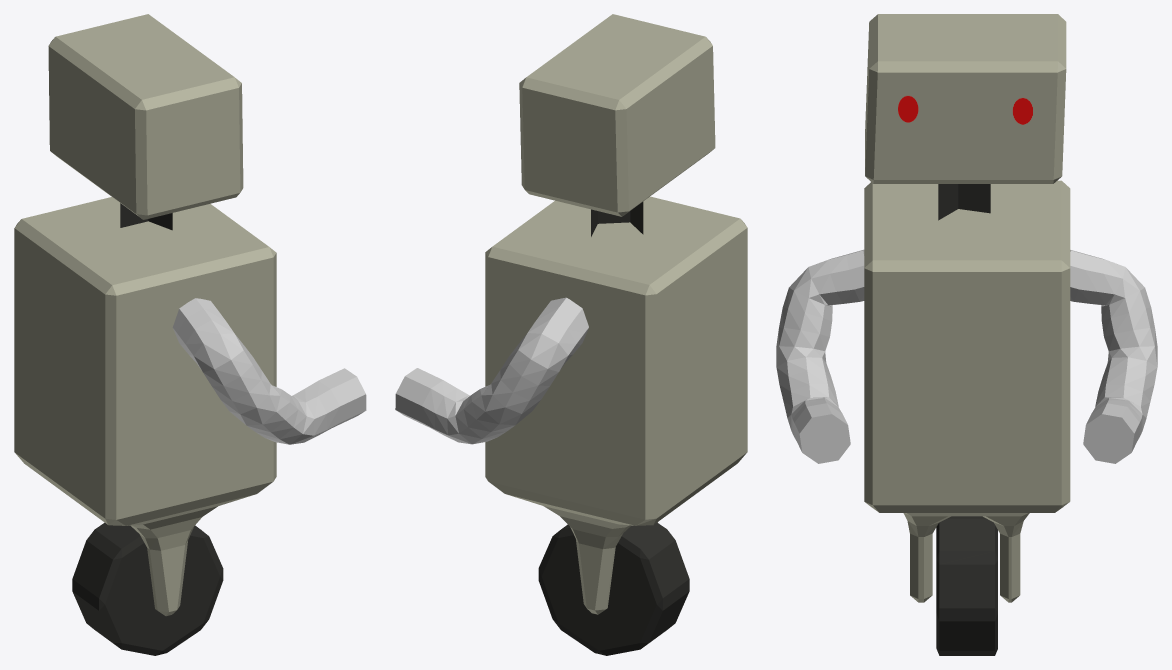
The model's file is enemy.obj.
3 renders of one model, left to right at view 1: azimuth 30°, elevation 25°; view 2: azimuth 150°, elevation 25°; view 3: azimuth 270°, elevation 25°, orthographic. The views are drawn at different scales.
Visible parts, largest first — view 1: Cylinder.002_Cylinder.003, Cylinder_Cylinder.002; view 2: Cylinder.002_Cylinder.003, Cylinder.001_Cylinder.002; view 3: Cylinder.002_Cylinder.003, Cylinder_Cylinder.002, Cylinder.001_Cylinder.002.
Part boxes in pixels (box(x1,y1,x2,y2)): Cylinder.002_Cylinder.003: box(14, 14, 276, 655); Cylinder_Cylinder.002: box(172, 298, 366, 444); Cylinder.002_Cylinder.003: box(485, 14, 747, 655); Cylinder.001_Cylinder.002: box(395, 297, 588, 444); Cylinder.002_Cylinder.003: box(864, 14, 1070, 655); Cylinder_Cylinder.002: box(776, 249, 864, 463); Cylinder.001_Cylinder.002: box(1070, 250, 1157, 463).
Size of the model in its own units: 0.3185 by 0.7869 by 0.4444.
Materials: 2 (1 with a texture image).
